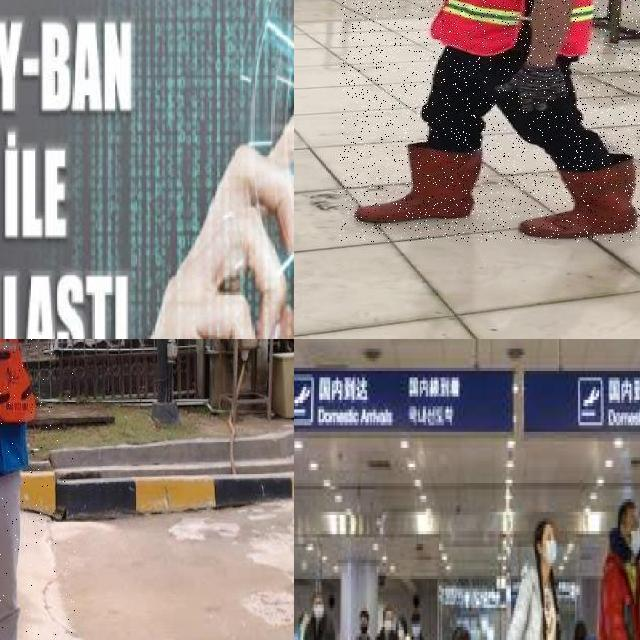boots: (351, 144, 479, 222), (521, 159, 639, 239)
face_mask: (542, 528, 558, 566), (626, 511, 640, 553), (312, 598, 324, 621), (383, 611, 393, 633), (359, 614, 367, 634), (410, 620, 420, 636), (396, 620, 404, 640)
hand_noglove: (117, 85, 294, 339)
head_nohelmet: (616, 496, 638, 521), (536, 512, 556, 534), (450, 620, 472, 640)
person: (340, 0, 640, 242), (0, 339, 75, 640), (511, 511, 567, 640), (594, 505, 640, 640), (300, 598, 340, 640), (355, 595, 373, 640)
vest: (432, 0, 596, 59)
